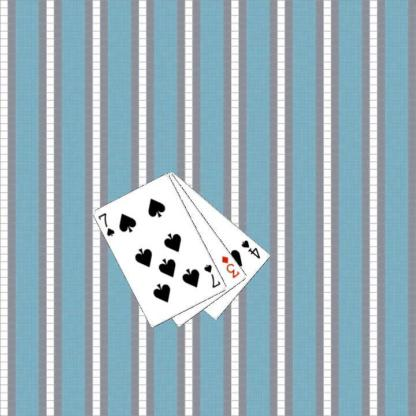3D: (219, 253, 241, 280)
4S: (239, 237, 262, 260)
7S: (96, 210, 116, 238), (202, 262, 222, 289)
